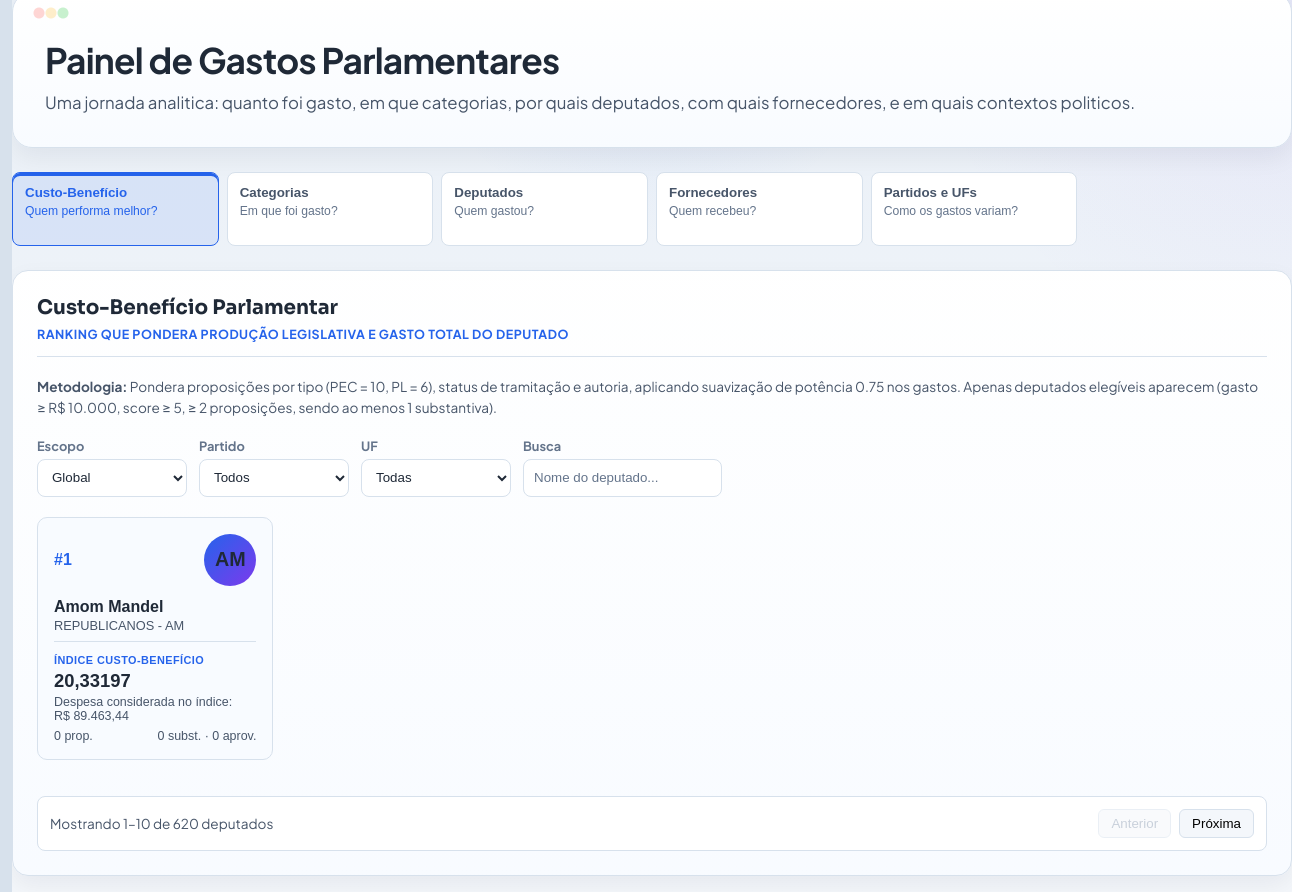
Test: does not refetch the ranking when selecting a deputy card
The width and height of the screenshot is (1292, 892).
Click the button named "DeputadosQuem gastou": x=545, y=209 [441,172,648,246]
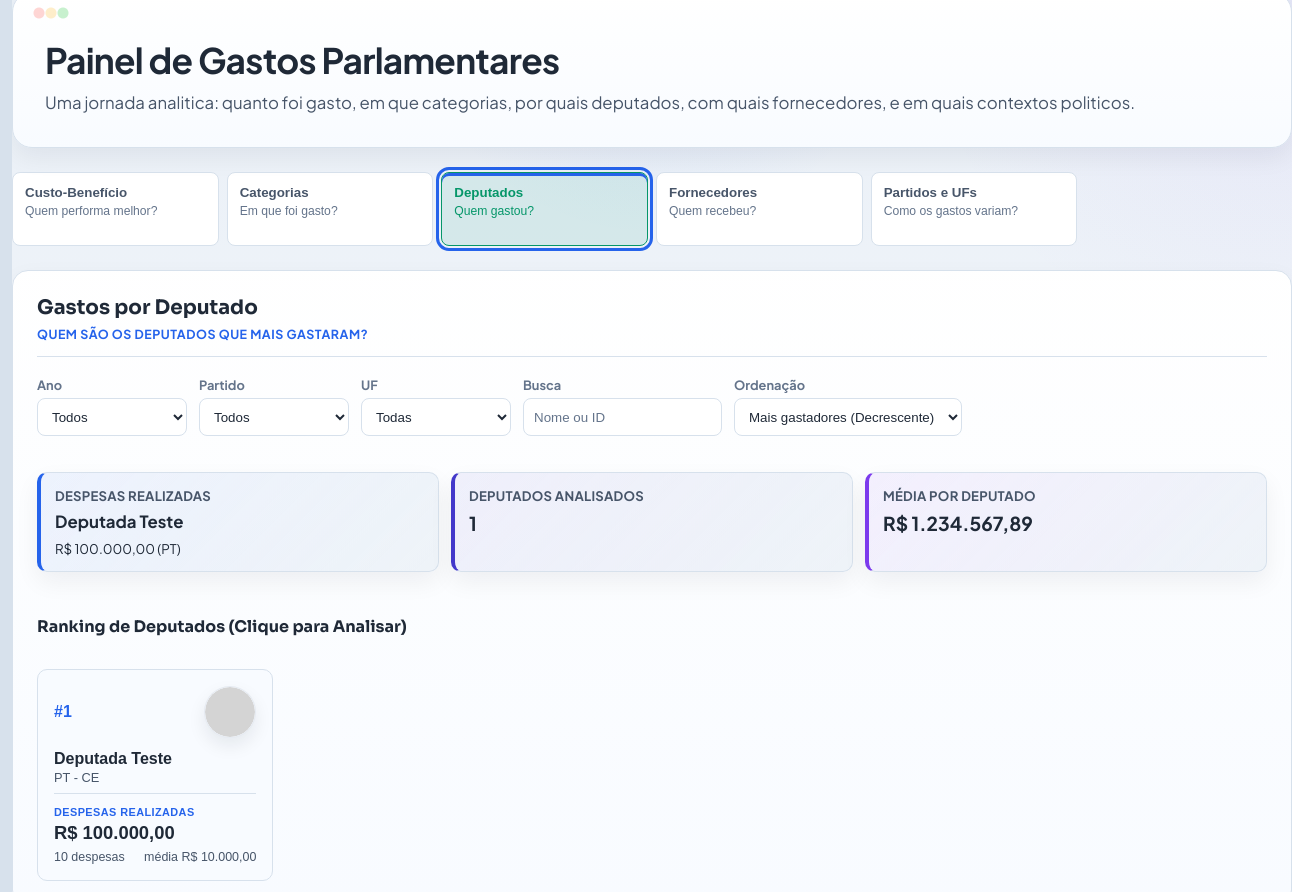
Result: the heading "Ranking de Deputados (Clique para Analisar)" is shown at [37,616,407,637]
Click the button "Deputada Teste": x=155, y=775 [37,669,273,880]
(page scrolled)
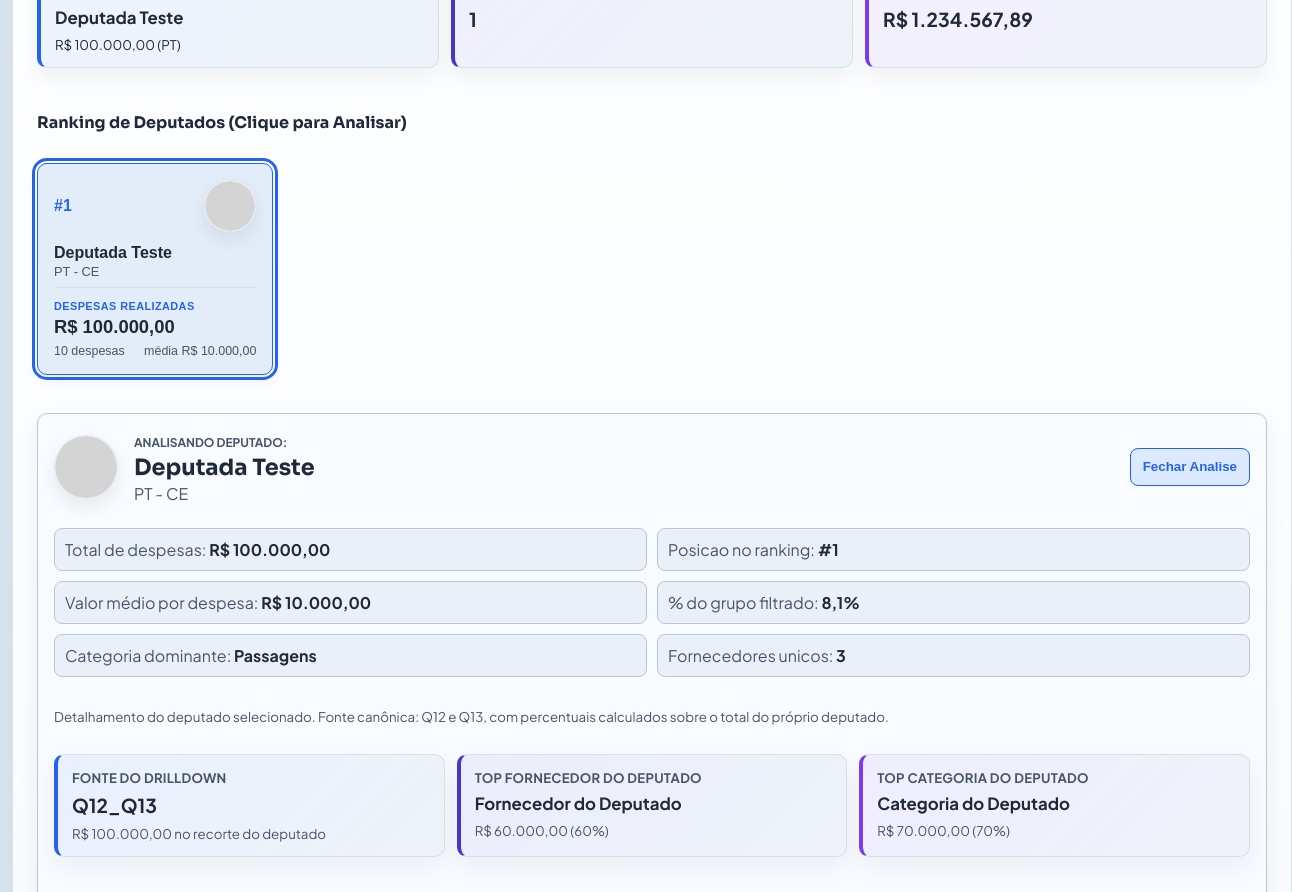
Result: the text "Analisando deputado:" is shown at [134,434,287,450]
